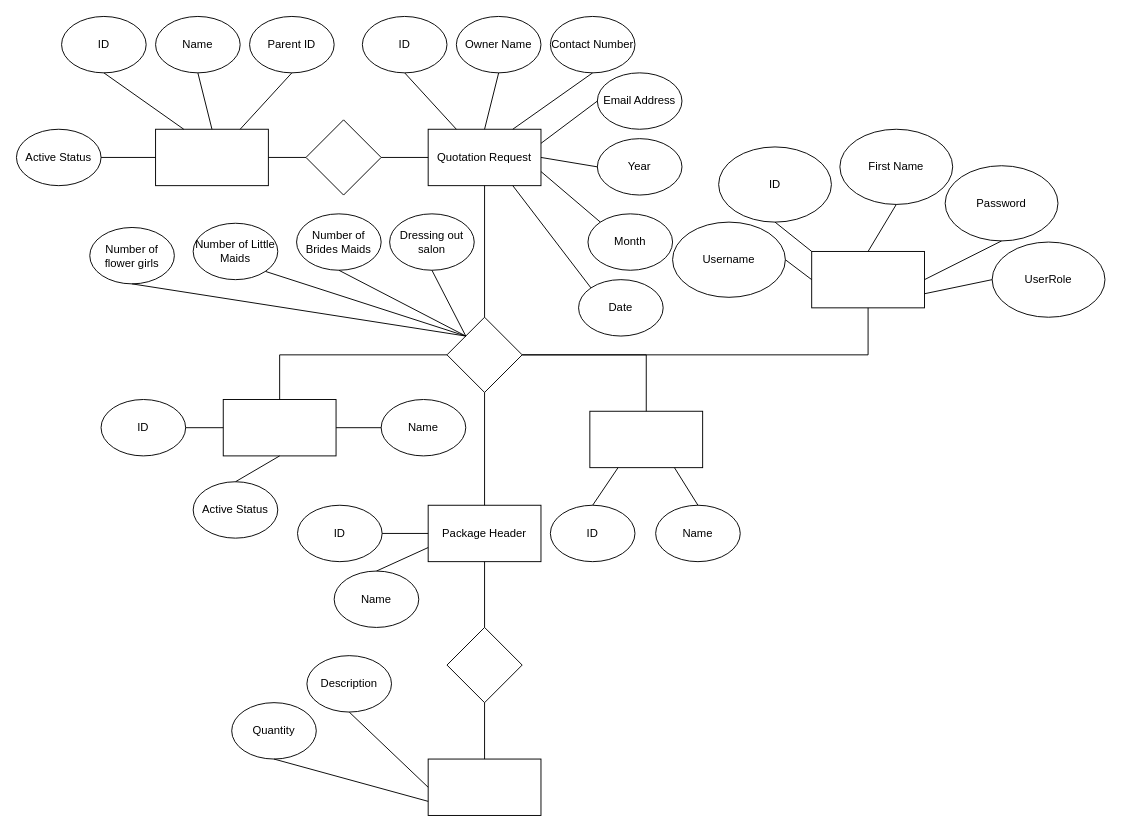
The diagram is 1121 pixels wide and 832 high, and some of its shapes have lost their labels. Here are the shapes that lost their labels. From the top down, the centre of each, then its label:
(x=211, y=157): Location
(x=343, y=157): belongs to
(x=867, y=279): User
(x=484, y=354): Q Detail
(x=279, y=427): Q Type
(x=646, y=439): Dress Type
(x=484, y=665): has
(x=484, y=786): Package Details
